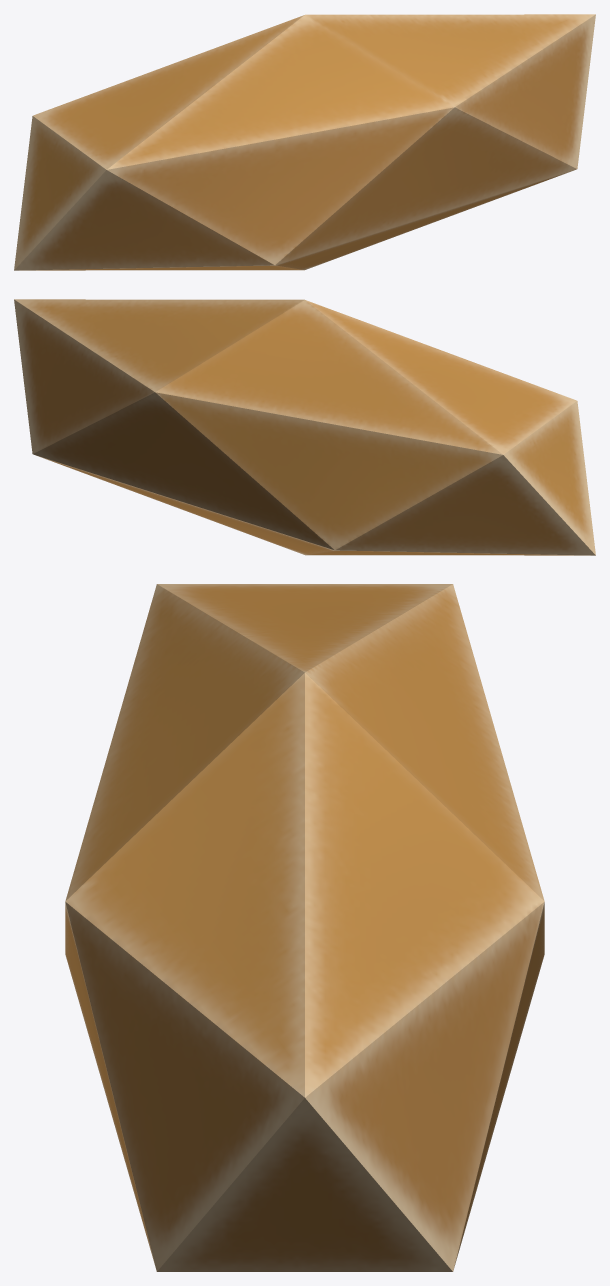
Rendered from GF_Shard.glb.
3 renders of one model, top to bottom at view 1: azimuth 30°, elevation 25°; view 2: azimuth 150°, elevation 25°; view 3: azimuth 270°, elevation 25°, orthographic. The views are drawn at different scales.
Visible parts, largest first — view 1: GF_Shard; view 2: GF_Shard; view 3: GF_Shard.
Part boxes in pixels (bbox=[...]): GF_Shard: bbox=[14, 14, 595, 270]; GF_Shard: bbox=[14, 299, 595, 555]; GF_Shard: bbox=[65, 584, 544, 1271].
Size of the model in its own units: 0.5724 by 0.24 by 0.2042.
Materials: 1 (1 with a texture image).
